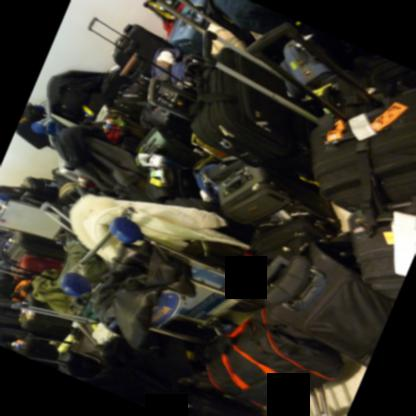backpack: (214, 0, 297, 33), (171, 51, 204, 89), (103, 123, 128, 145)
handbag: (197, 309, 344, 408)
suitcase: (0, 0, 415, 415), (265, 239, 394, 368), (309, 88, 416, 213), (191, 46, 298, 169), (214, 162, 334, 235), (350, 199, 416, 304), (282, 37, 367, 109), (164, 0, 255, 55), (84, 19, 168, 65), (341, 52, 416, 100), (311, 26, 371, 70), (149, 160, 203, 201), (7, 229, 66, 262), (11, 257, 59, 279)
